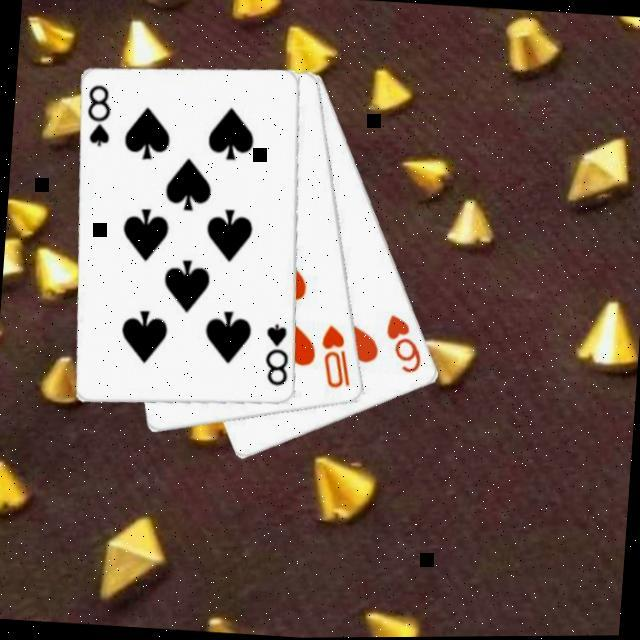10H: (314, 321, 357, 391)
6H: (379, 309, 426, 376)
8S: (80, 80, 115, 150), (259, 318, 293, 388)
